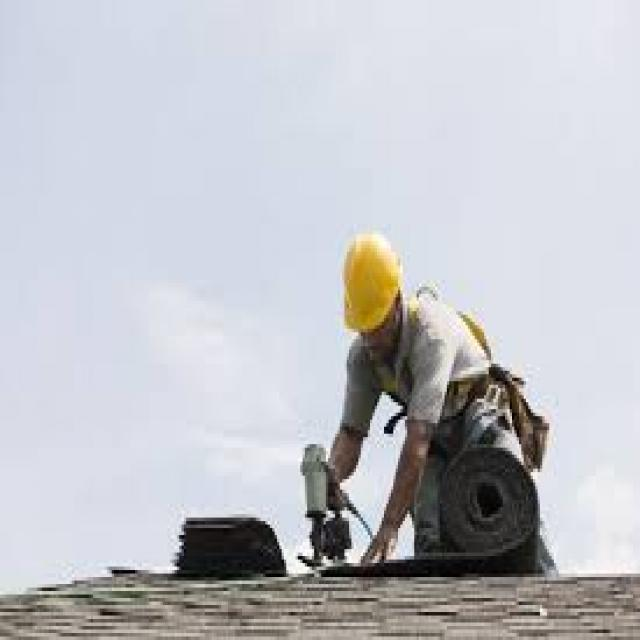safety_helmet: (325, 220, 414, 353)
